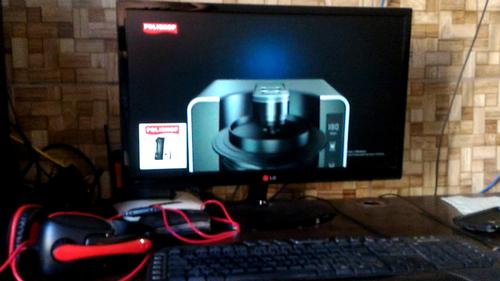Polishop #1: (139, 123, 187, 169)
